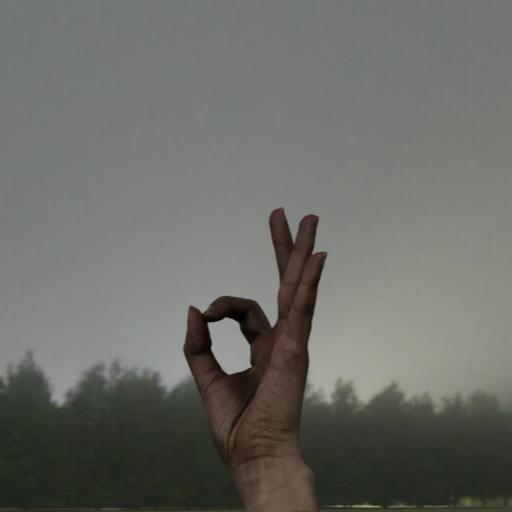F: (154, 191, 418, 494)
